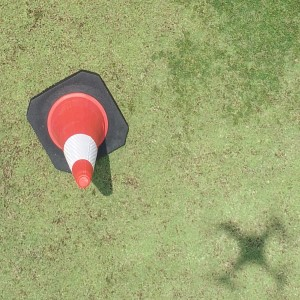traffic cone: (26, 70, 128, 187)
